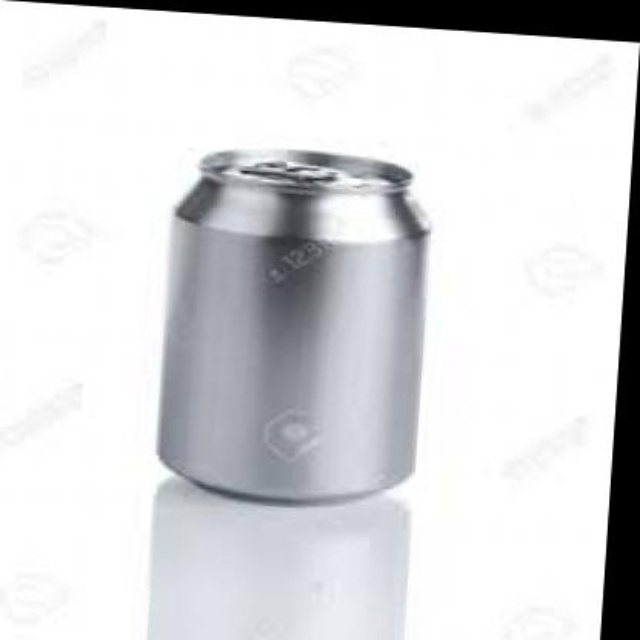trash: (158, 149, 428, 498)
